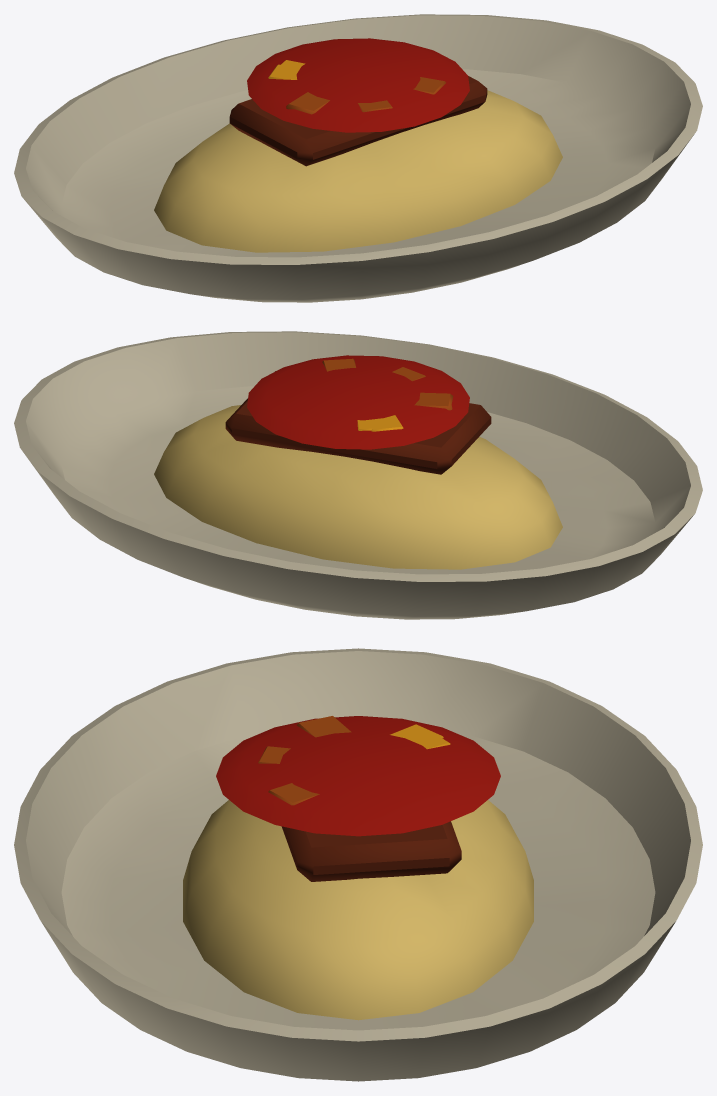
Rendered from food-baked-pork-rice-s0.glb.
3 views of the same model, one above another, from view 1: azimuth 30°, elevation 25°; view 2: azimuth 150°, elevation 25°; view 3: azimuth 270°, elevation 25° (orthographic). The views are drawn at different scales.
Visible parts, largest first — view 1: dish__ceramic, rice__food, sauce__sauce, pork__food, cheese__food; view 2: dish__ceramic, rice__food, sauce__sauce, pork__food, cheese__food; view 3: dish__ceramic, rice__food, sauce__sauce, pork__food, cheese__food.
Boxes of the visible parts, x1=… form: dish__ceramic: x1=14, y1=14, x2=702, y2=302; rice__food: x1=154, y1=90, x2=562, y2=252; sauce__sauce: x1=247, y1=38, x2=469, y2=132; pork__food: x1=229, y1=76, x2=487, y2=166; cheese__food: x1=268, y1=60, x2=445, y2=114; dish__ceramic: x1=14, y1=331, x2=702, y2=619; rice__food: x1=154, y1=405, x2=562, y2=569; sauce__sauce: x1=247, y1=355, x2=469, y2=449; pork__food: x1=225, y1=371, x2=491, y2=474; cheese__food: x1=322, y1=358, x2=453, y2=431; dish__ceramic: x1=14, y1=648, x2=702, y2=1081; rice__food: x1=183, y1=800, x2=533, y2=1020; sauce__sauce: x1=216, y1=716, x2=500, y2=836; pork__food: x1=281, y1=821, x2=461, y2=881; cheese__food: x1=258, y1=716, x2=450, y2=805.
Size of the model in its own units: 0.3915 by 0.079 by 0.29.
